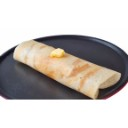dosa: (8, 37, 122, 99)
